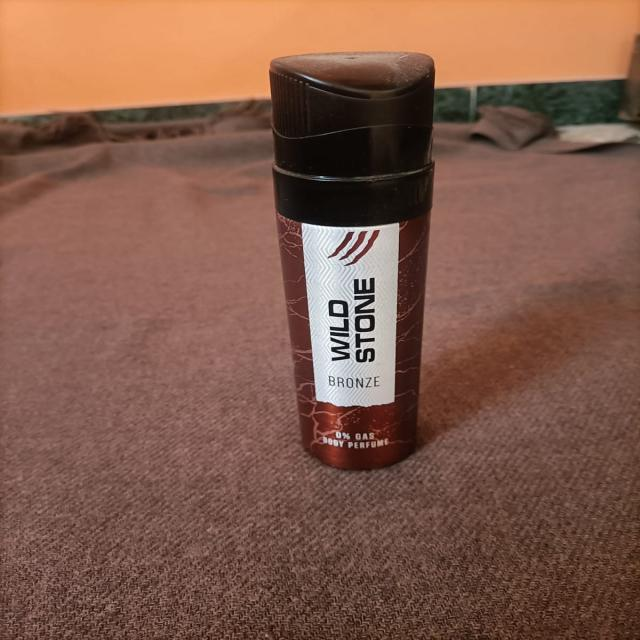spray: (192, 17, 531, 524)
